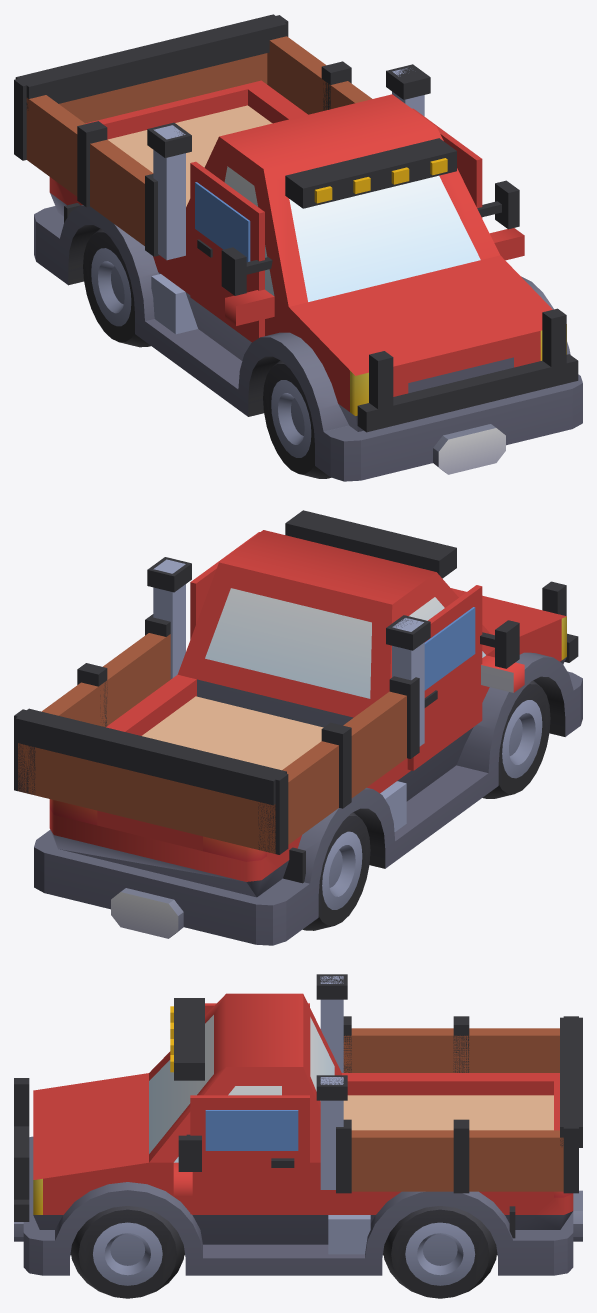
File: hauler.glb
3 renders of one model, top to bottom at view 1: azimuth 30°, elevation 25°; view 2: azimuth 150°, elevation 25°; view 3: azimuth 270°, elevation 25°, orthographic. The views are drawn at different scales.
Parts seen in each view (by area): view 1: body, bumper_front, door_right, wheel-front-right, wheel-back-right, mirror_right, door_left, mirror_left; view 2: body, bumper_rear, door_right, wheel-front-right, wheel-back-right, mirror_right, door_left; view 3: body, door_left, wheel-front-left, wheel-back-left, bumper_front, bumper_rear, mirror_left.
Part boxes in pixels (x1,y1,x2,y2): body: (14, 14, 578, 476); bumper_front: (320, 374, 582, 481); door_right: (190, 161, 264, 342); wheel-front-right: (263, 360, 331, 478); wheel-back-right: (83, 228, 150, 347); mirror_right: (221, 247, 272, 295); door_left: (412, 108, 482, 218); mirror_left: (477, 180, 519, 229); body: (14, 510, 580, 940); bumper_rear: (34, 840, 308, 945); door_right: (407, 585, 482, 770); wheel-front-right: (482, 680, 550, 798); wheel-back-right: (302, 812, 370, 930); mirror_right: (480, 620, 519, 668); door_left: (190, 532, 259, 639); body: (14, 974, 582, 1275); door_left: (190, 1095, 309, 1214); wheel-front-left: (71, 1206, 184, 1298); wheel-back-left: (383, 1206, 497, 1298); bumper_front: (14, 1136, 62, 1275); bumper_rear: (515, 1190, 582, 1275); mirror_left: (178, 1134, 201, 1171).
Size of the model in its own units: 1.5 by 1.3 by 2.95.
Materials: 1 (1 with a texture image).
